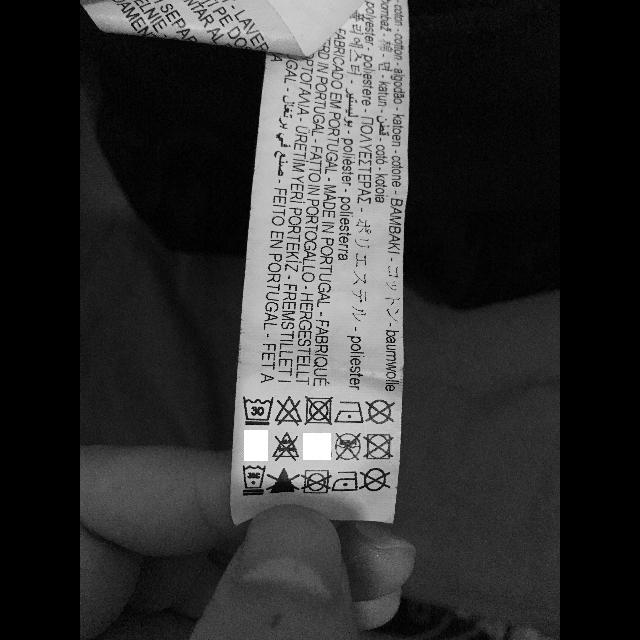30C: (240, 394, 274, 426), (240, 464, 266, 498)
DN_bleach: (272, 394, 304, 428), (265, 467, 301, 497), (271, 431, 301, 464)
DN_dry_clean: (332, 431, 363, 464), (364, 398, 396, 427), (358, 466, 392, 492)
DN_tumble_dry: (302, 395, 336, 427), (360, 432, 396, 462), (300, 468, 332, 496)
iron_low: (334, 399, 364, 427), (331, 469, 359, 493)
